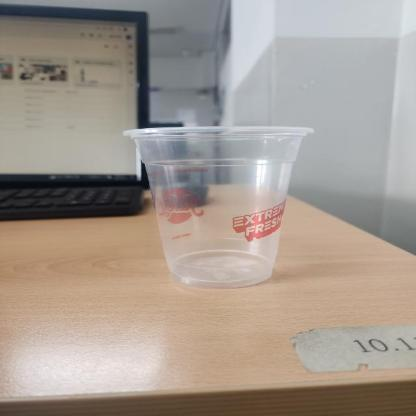Plastic Cup: (122, 124, 316, 288)
